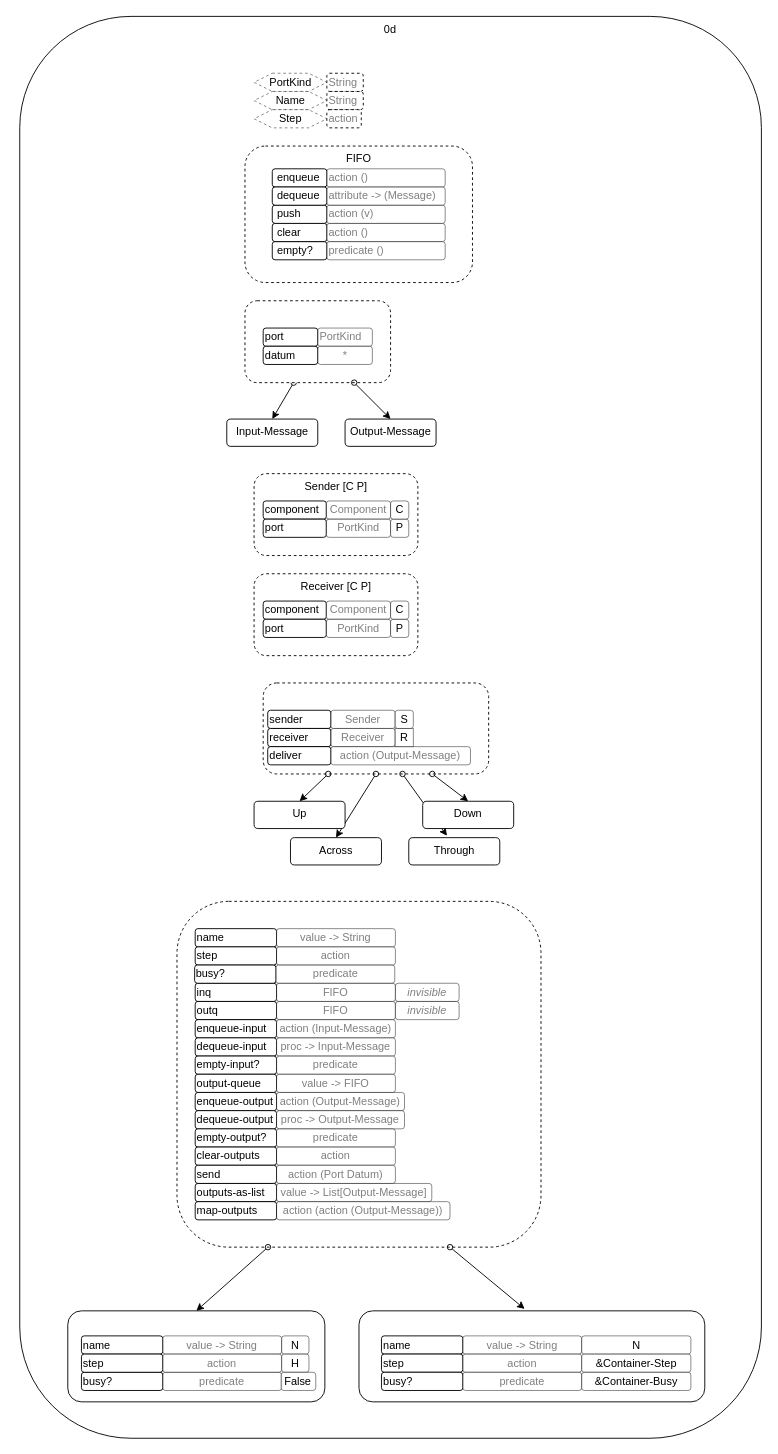
The diagram is 778 pixels wide and 1454 high, and some of its shapes have lost their labels. The shapes that lost their labels are listed below. From the top down, each one's box as (x1, y1, x2, y2) in pixels, then its label:
(244, 300, 391, 383): Message
(262, 682, 489, 774): Connection [S R]
(176, 900, 541, 1247): Eh
(67, 1310, 325, 1402): Leaf [N H]
(358, 1310, 705, 1402): Container [N]
